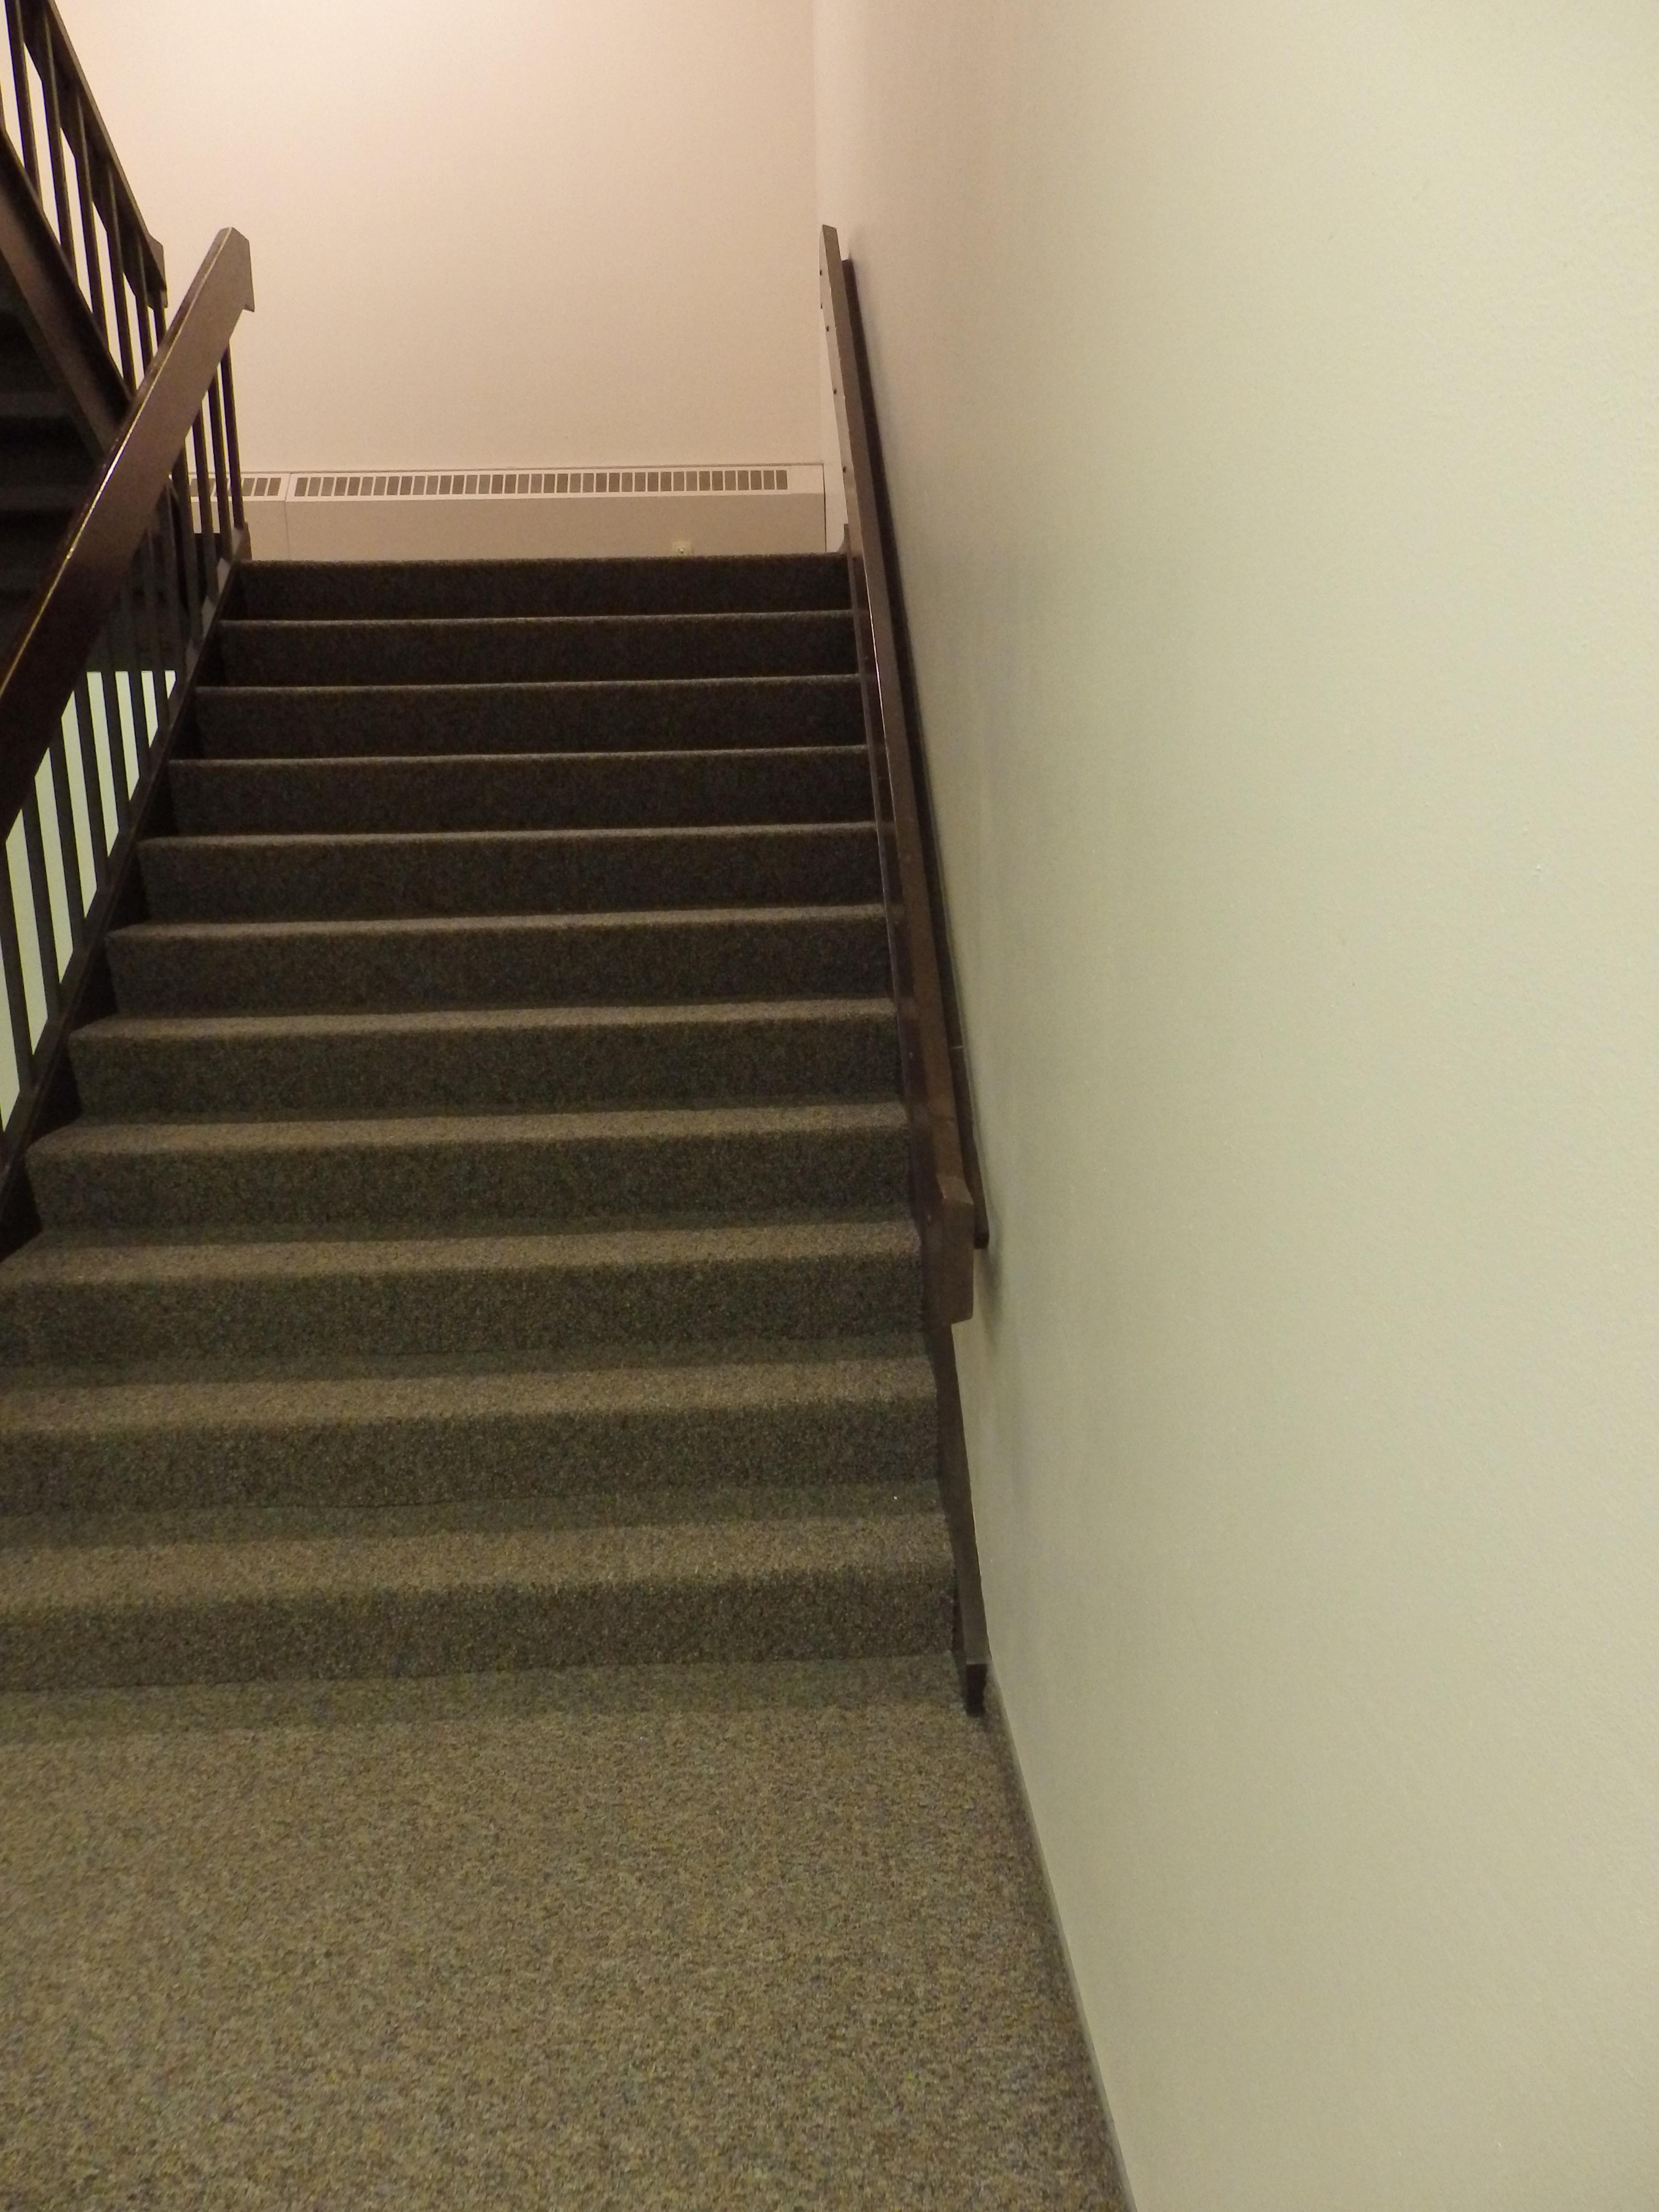stairs_up: (16, 543, 887, 1667)
